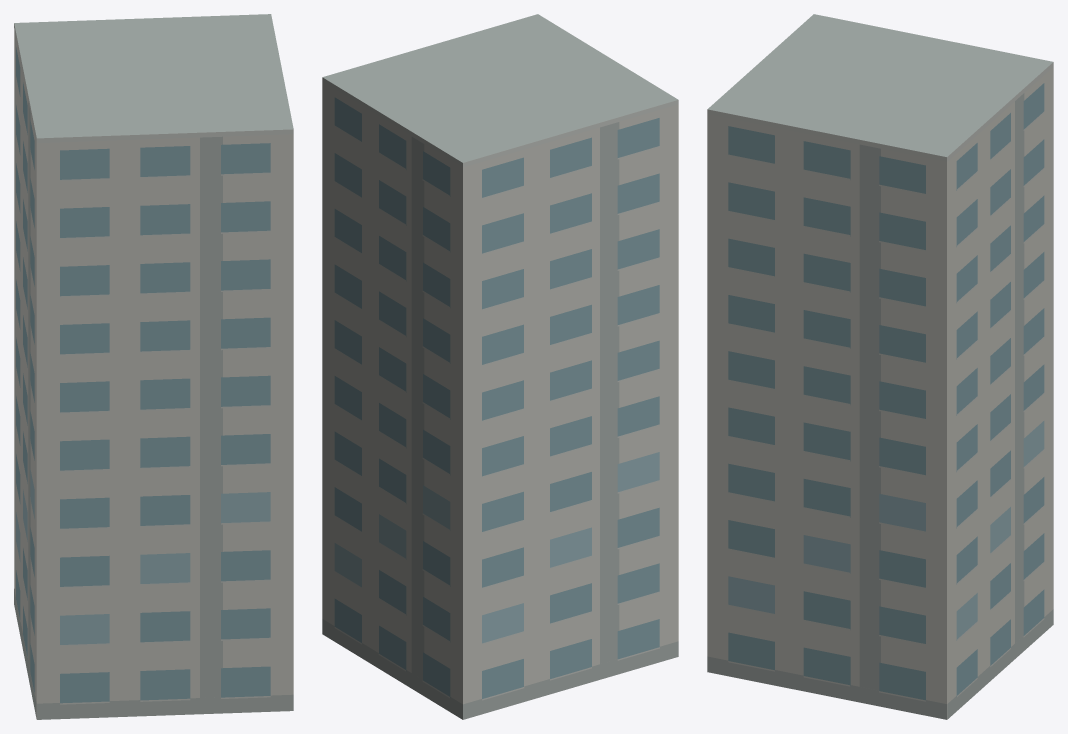
File: residential-0eb94b6c-b04a-49dc-a71a-538649698dfe.glb
The picture shows the model from 3 angles, left to right: view 1: azimuth 30°, elevation 25°; view 2: azimuth 150°, elevation 25°; view 3: azimuth 270°, elevation 25°; orthographic projection. The views are drawn at different scales.
Visible parts, largest first — view 1: residential-0eb94b6c-b04a-49dc-a71a-538649698dfe.tmp; view 2: residential-0eb94b6c-b04a-49dc-a71a-538649698dfe.tmp; view 3: residential-0eb94b6c-b04a-49dc-a71a-538649698dfe.tmp.
Part boxes in pixels (<box>): residential-0eb94b6c-b04a-49dc-a71a-538649698dfe.tmp: <box>14,14,293,719</box>; residential-0eb94b6c-b04a-49dc-a71a-538649698dfe.tmp: <box>322,14,678,719</box>; residential-0eb94b6c-b04a-49dc-a71a-538649698dfe.tmp: <box>707,14,1053,719</box>.
Bounding box in the file's own units: 15.83 × 29 × 16.19.
